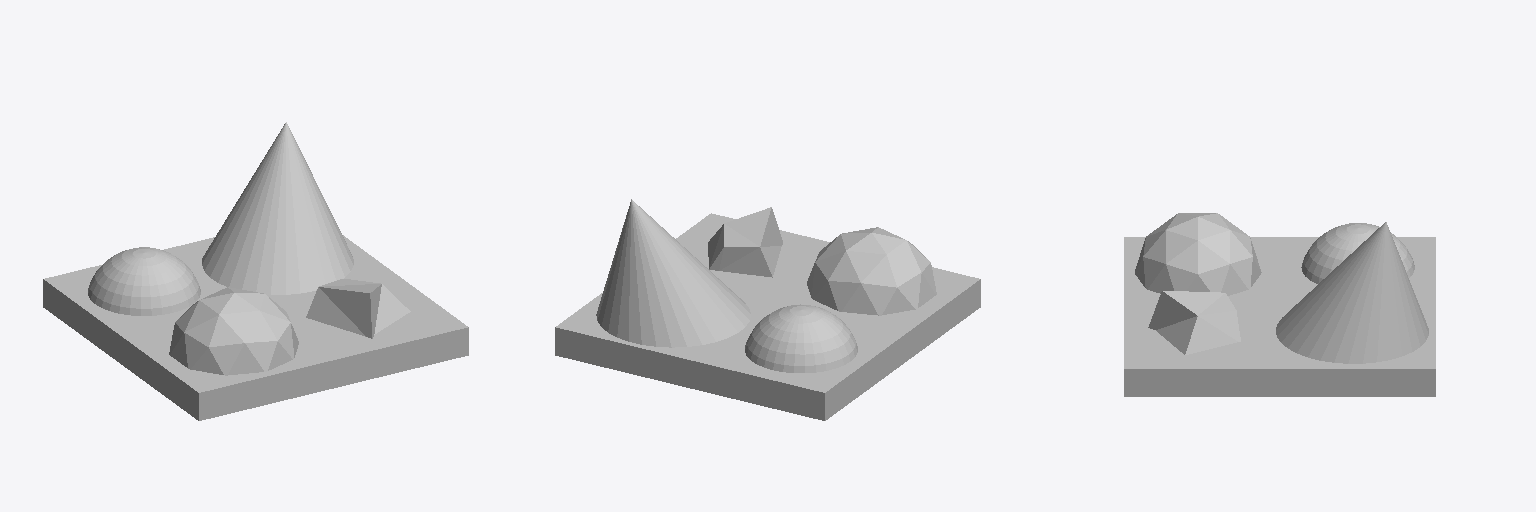
The model's file is Geometric Model.obj.
3 renders of one model, left to right at view 1: azimuth 30°, elevation 25°; view 2: azimuth 150°, elevation 25°; view 3: azimuth 270°, elevation 25°, orthographic.
Parts seen in each view (by area): view 1: GeometricModel; view 2: GeometricModel; view 3: GeometricModel.
Part boxes in pixels (bbox=[...]): GeometricModel: bbox=[43, 122, 468, 420]; GeometricModel: bbox=[555, 199, 980, 420]; GeometricModel: bbox=[1124, 213, 1435, 396].
Bounding box in the file's own units: 1 × 0.5338 × 1.